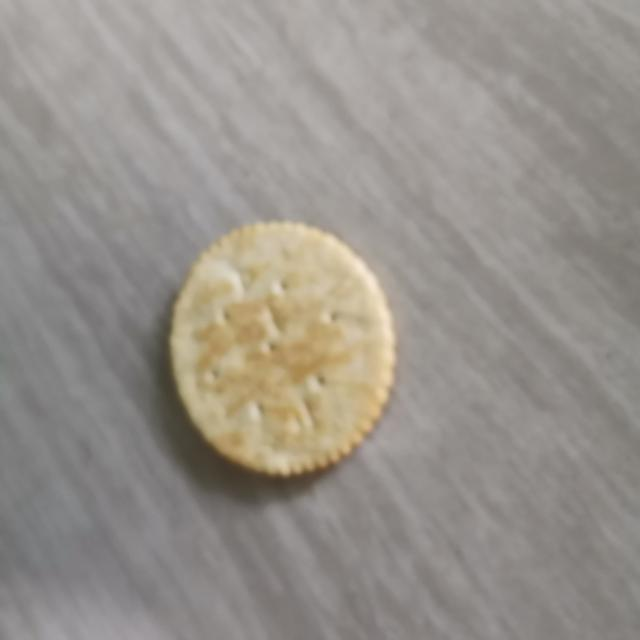Intact: (159, 208, 409, 487)
